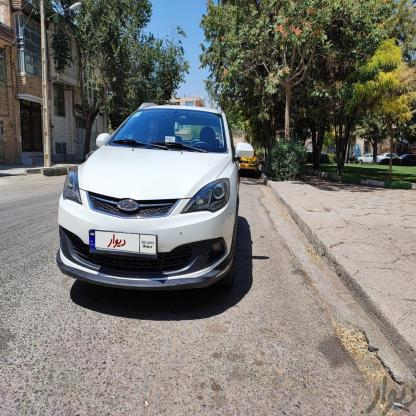Car: (56, 106, 244, 292), (232, 139, 266, 180), (395, 147, 416, 164), (377, 147, 398, 164), (352, 153, 378, 165)
